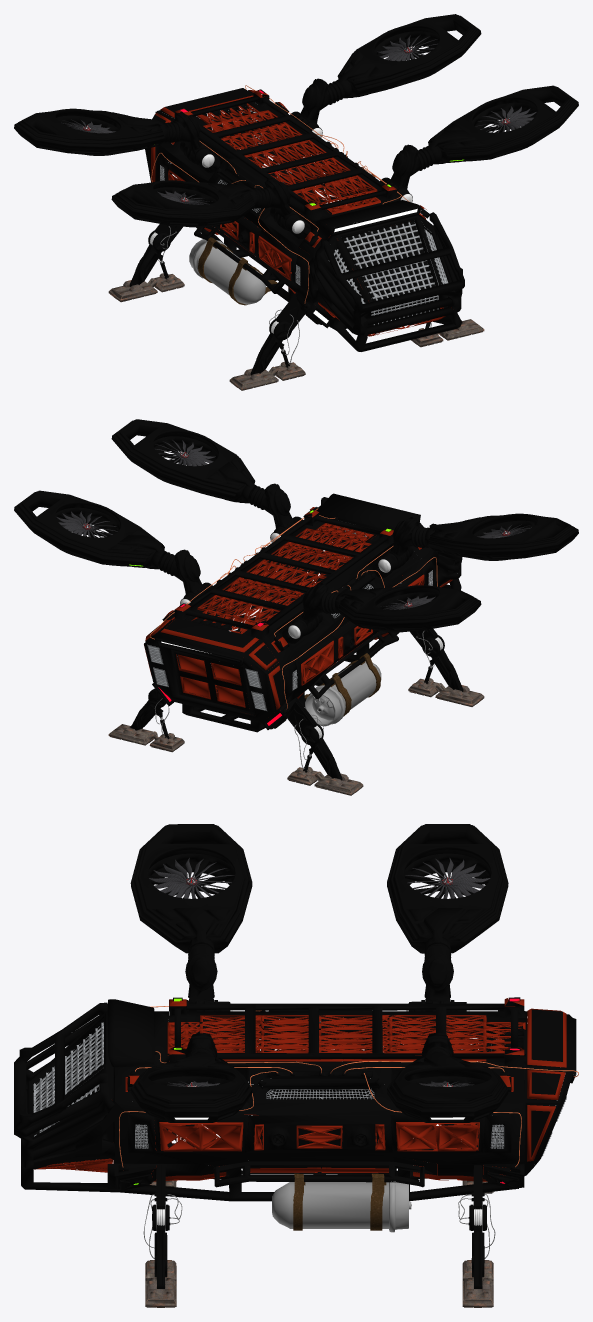
The model's file is oryx-freighter.glb.
The picture shows the model from 3 angles, top to bottom: view 1: azimuth 30°, elevation 25°; view 2: azimuth 150°, elevation 25°; view 3: azimuth 270°, elevation 25°; orthographic projection. The views are drawn at different scales.
Parts seen in each view (by area): view 1: root; view 2: root; view 3: root.
Boxes of the visible parts, x1=… form: root: x1=14, y1=14, x2=578, y2=390; root: x1=14, y1=419, x2=578, y2=795; root: x1=14, y1=824, x2=578, y2=1307.
Bounding box in the file's own units: 135 × 58.96 × 113.
Materials: 19 (5 with a texture image).
